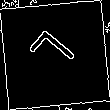L_SE: (25, 27, 85, 83)
